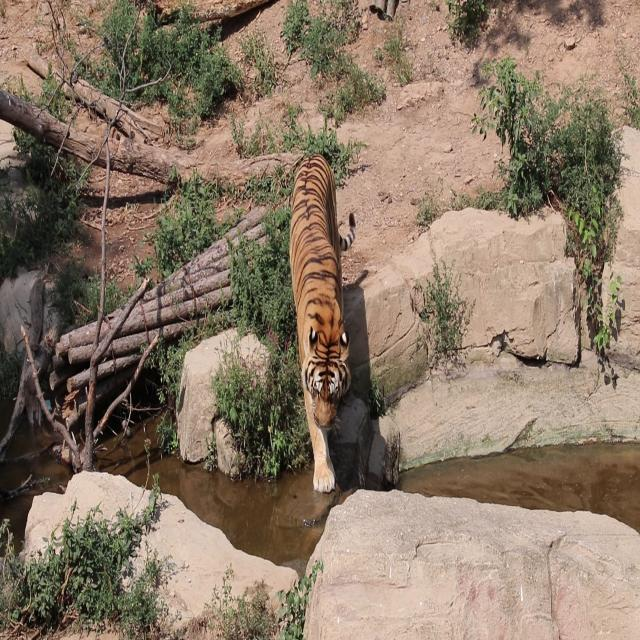Tiger: (268, 155, 395, 494)
